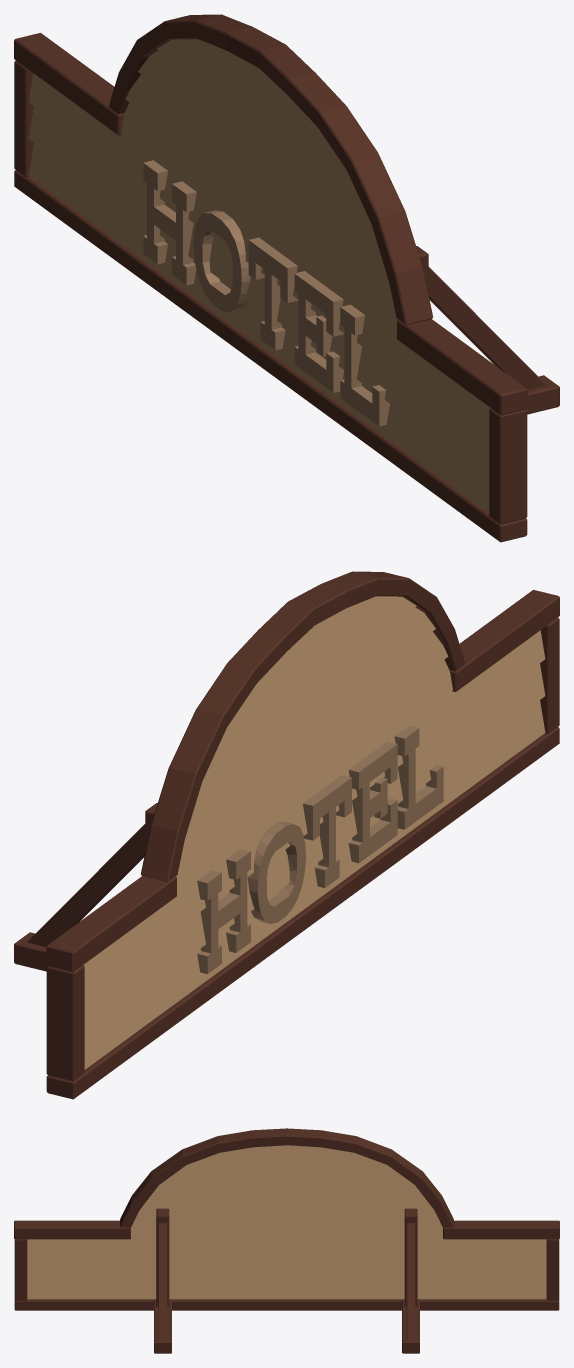
Rendered from Hotel Sign B.glb.
3 views of the same model, one above another, from view 1: azimuth 30°, elevation 25°; view 2: azimuth 150°, elevation 25°; view 3: azimuth 270°, elevation 25° (orthographic). The views are drawn at different scales.
Parts seen in each view (by area): view 1: Hotel Sign B; view 2: Hotel Sign B; view 3: Hotel Sign B.
Boxes of the visible parts, <box> form: Hotel Sign B: <box>14,14,559,542</box>; Hotel Sign B: <box>14,571,559,1099</box>; Hotel Sign B: <box>14,1128,559,1353</box>.
Bounding box in the file's own units: 146 × 235 × 660.
